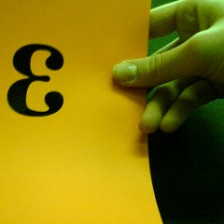orange3: (4, 41, 69, 122)
